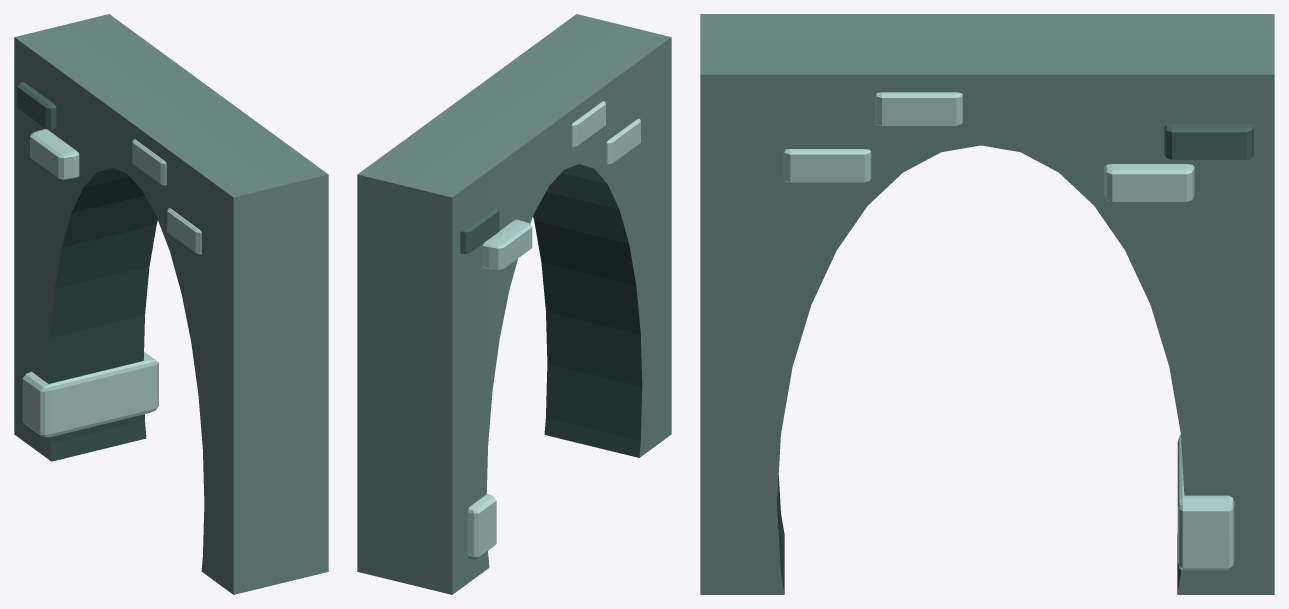
The model's file is Door-t1.fbx.
The picture shows the model from 3 angles, left to right: view 1: azimuth 30°, elevation 25°; view 2: azimuth 150°, elevation 25°; view 3: azimuth 270°, elevation 25°; orthographic projection. The views are drawn at different scales.
Parts seen in each view (by area): view 1: door 1; view 2: door 1; view 3: door 1.
Part boxes in pixels (x1,y1,x2,y2): door 1: [14, 14, 328, 594]; door 1: [357, 14, 671, 594]; door 1: [700, 14, 1274, 594].
Size of the model in its own units: 134 by 400 by 400.
